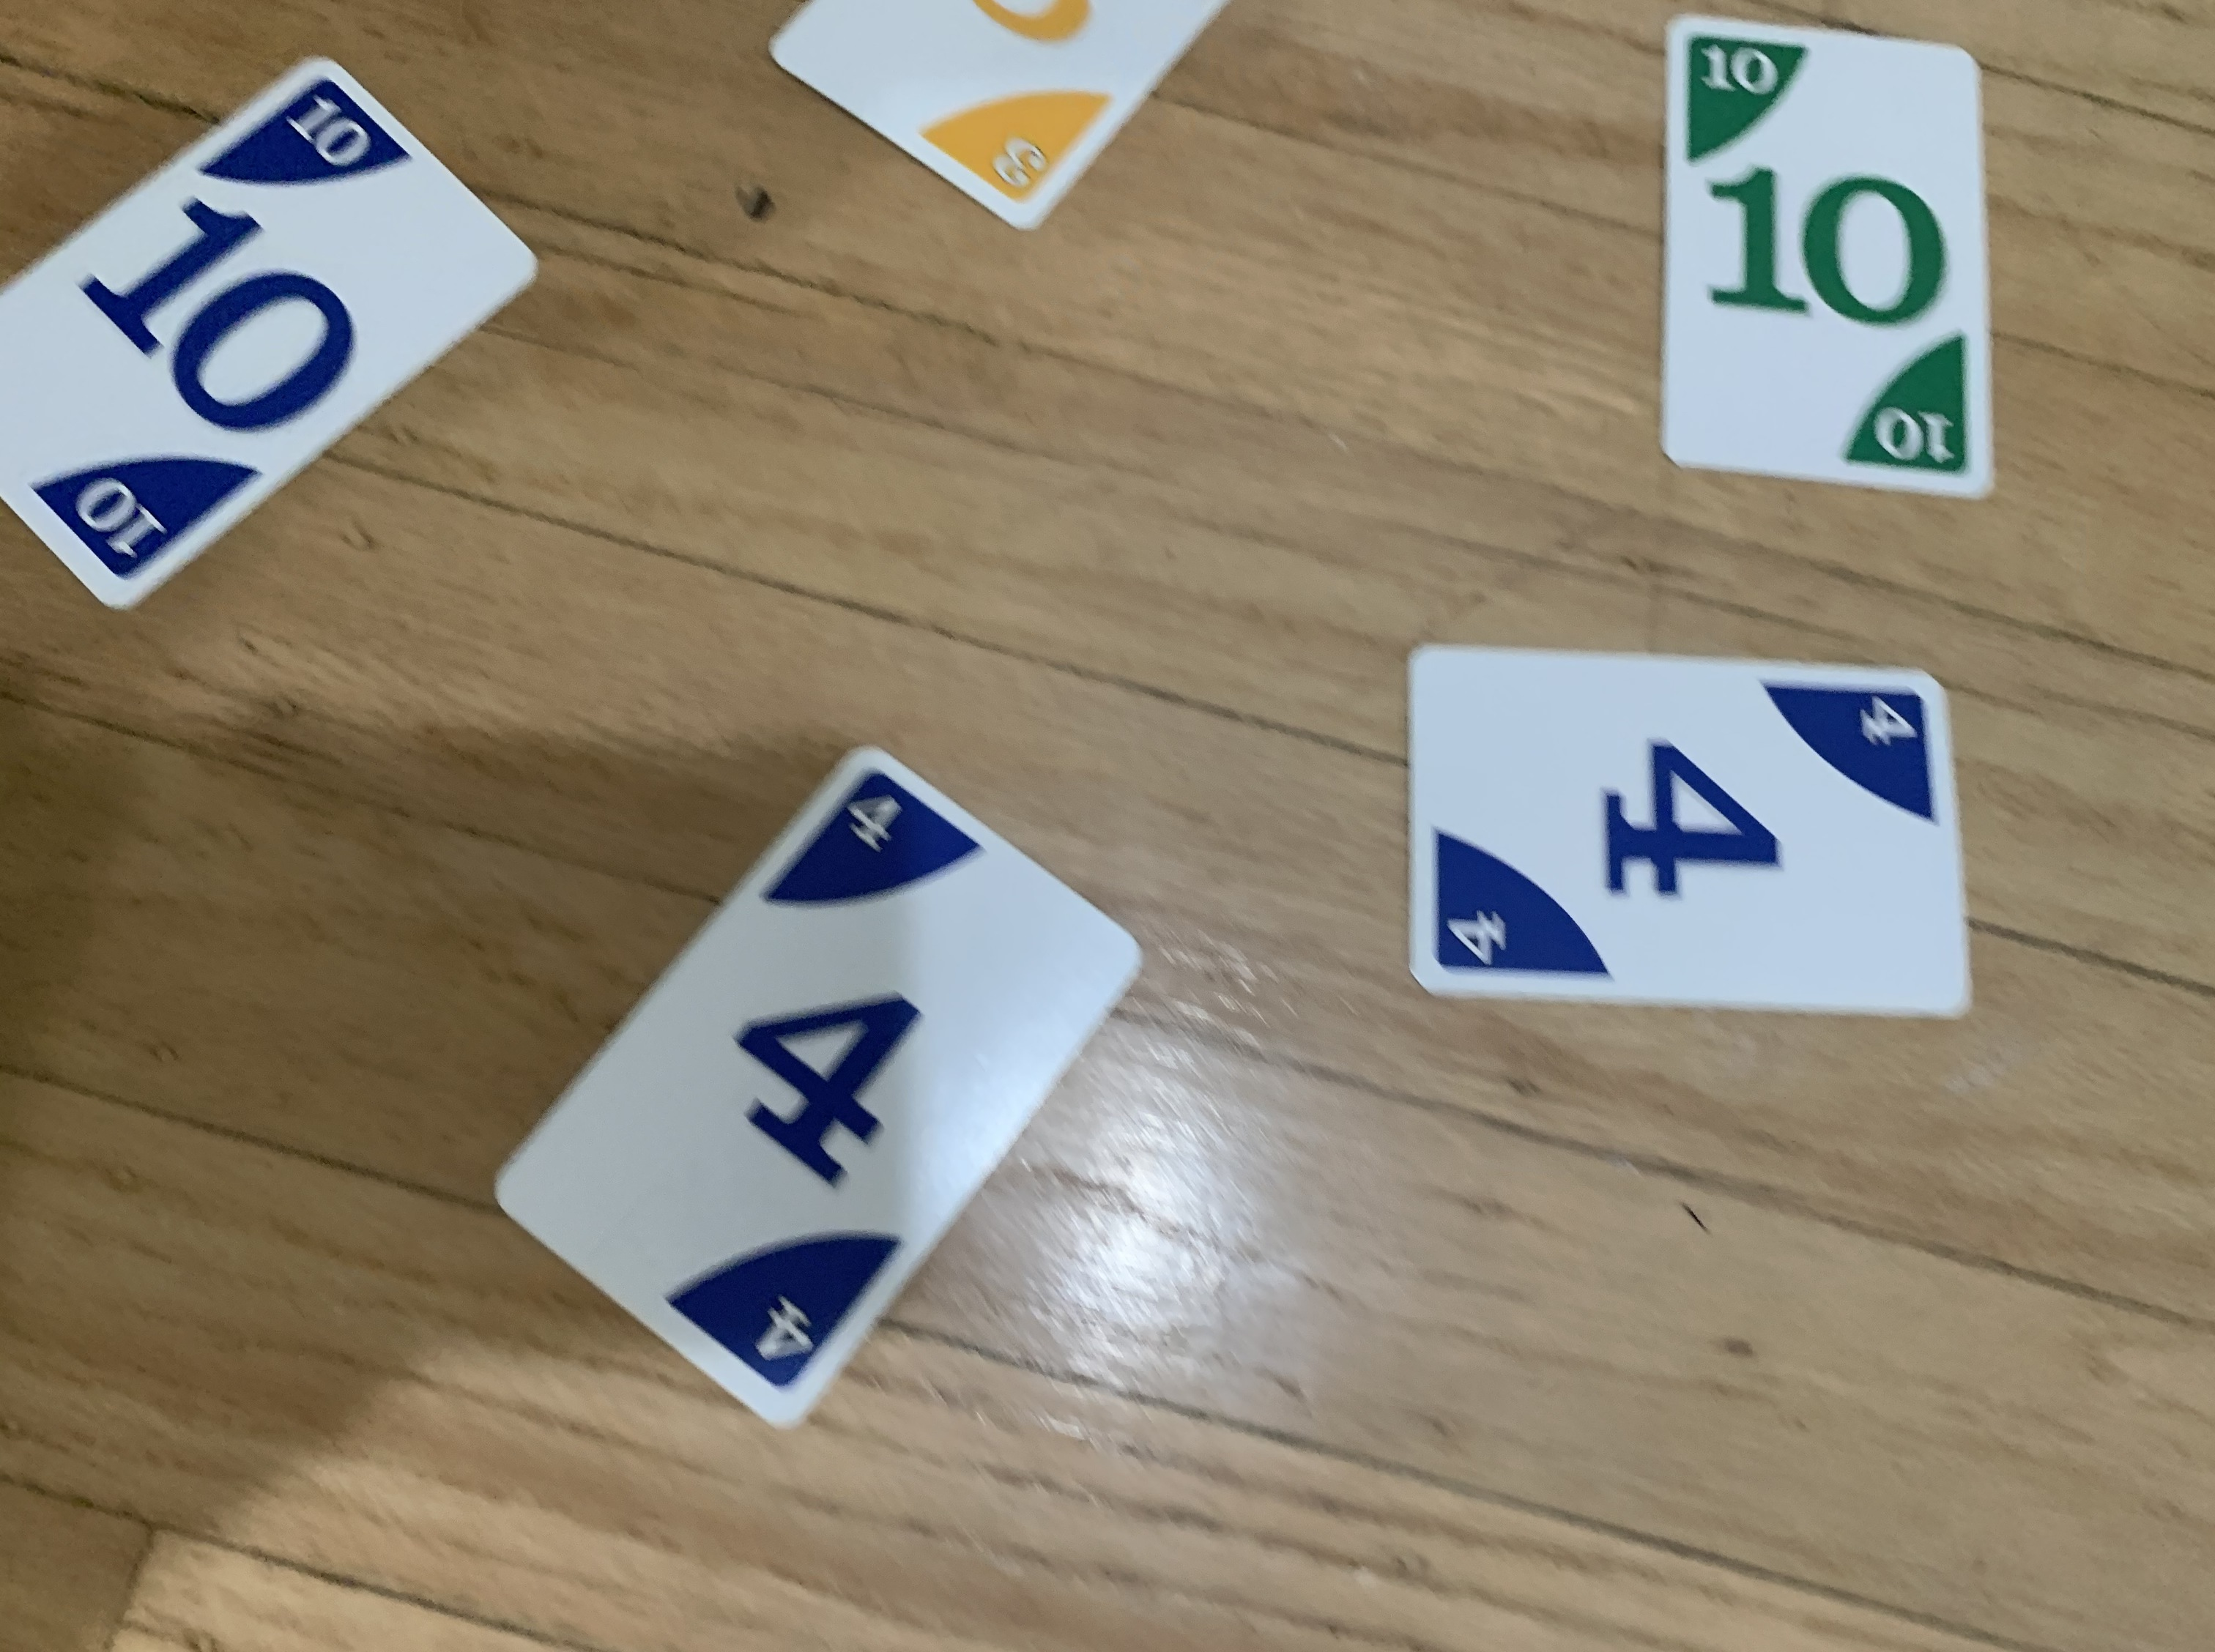four: (474, 736, 1151, 1445), (1389, 630, 1995, 1032)
ten: (0, 45, 549, 628), (1647, 10, 2007, 514)
